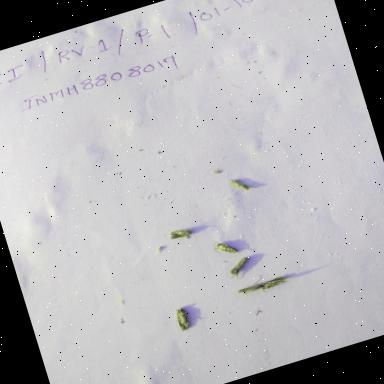pbw: (219, 166, 266, 201), (156, 218, 200, 254), (256, 269, 298, 297), (168, 298, 198, 336), (223, 254, 257, 284), (209, 234, 242, 262), (233, 278, 266, 300)
